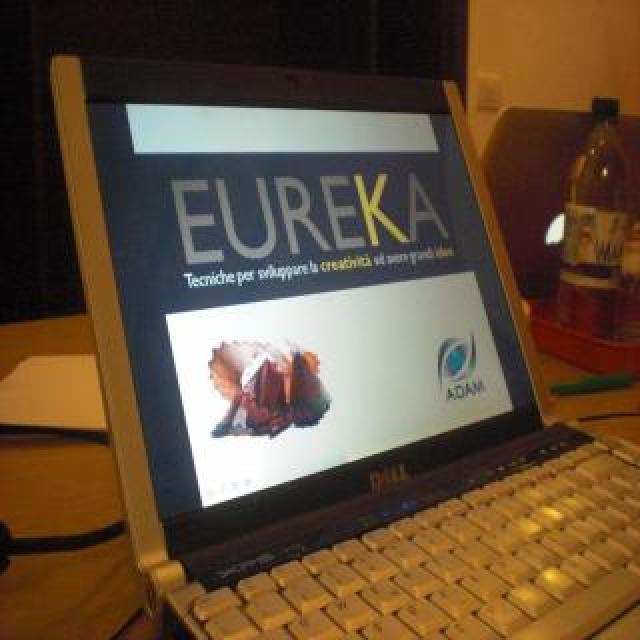laptop_computer: (72, 30, 638, 640)
